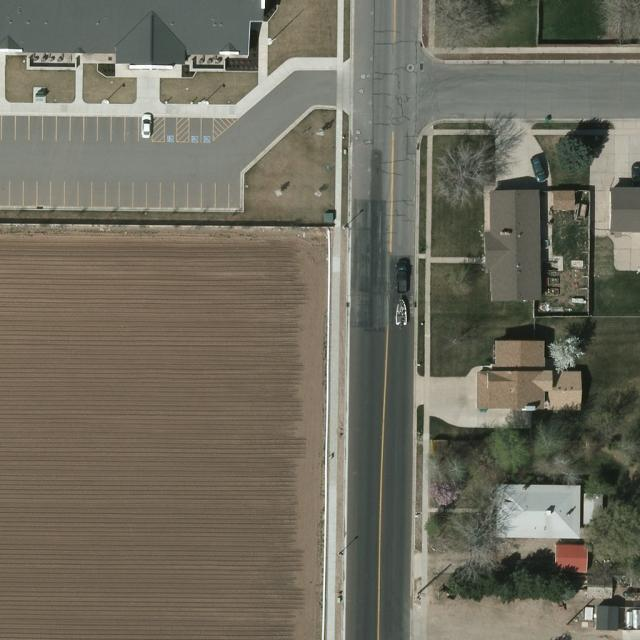vehicle: (528, 156, 548, 183), (396, 260, 409, 295), (141, 113, 153, 139), (631, 162, 640, 187)
